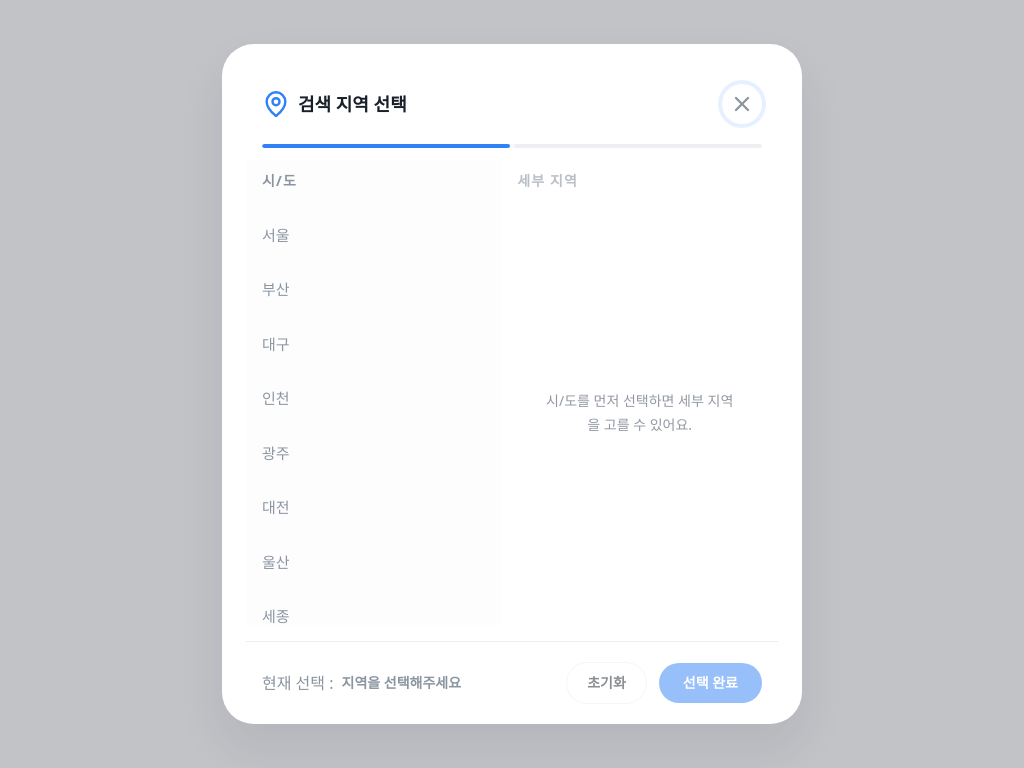
RegionSelectDialog › 시도를 바꾸면 세부 지역 선택이 다시 전체로 돌아간다
This screenshot has width=1024, height=768.
Click the button "서울" at (370, 235), box [246,210,493,260]
(page scrolled)
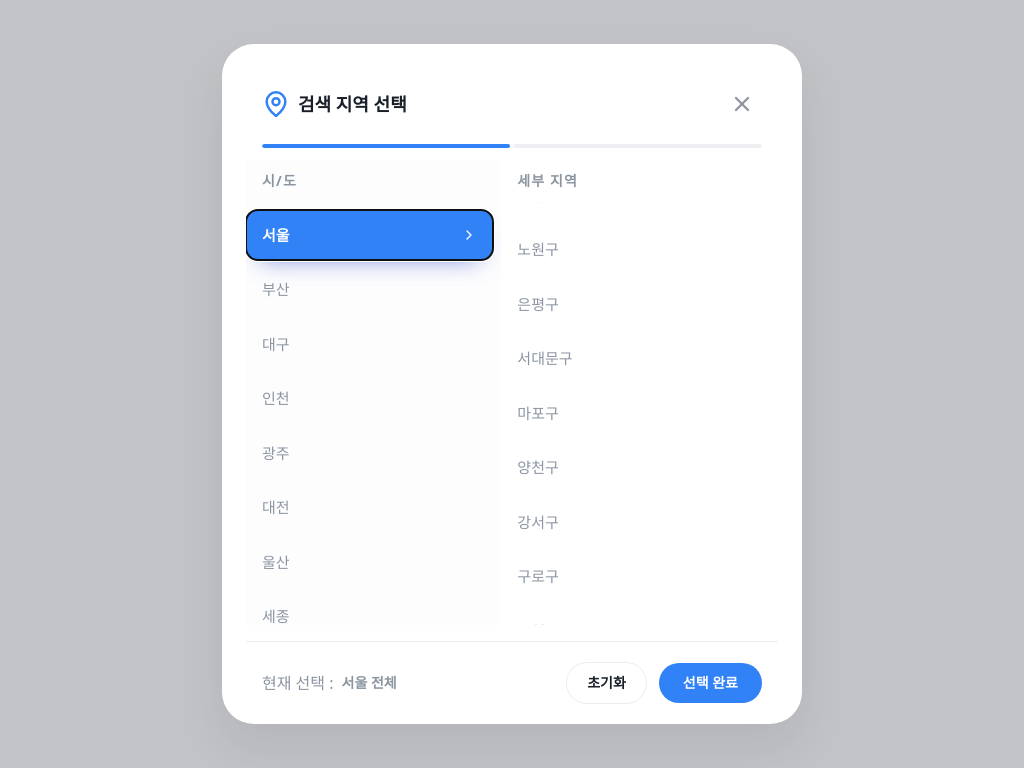
Click the button "마포구" at (538, 413), box [501,388,770,438]
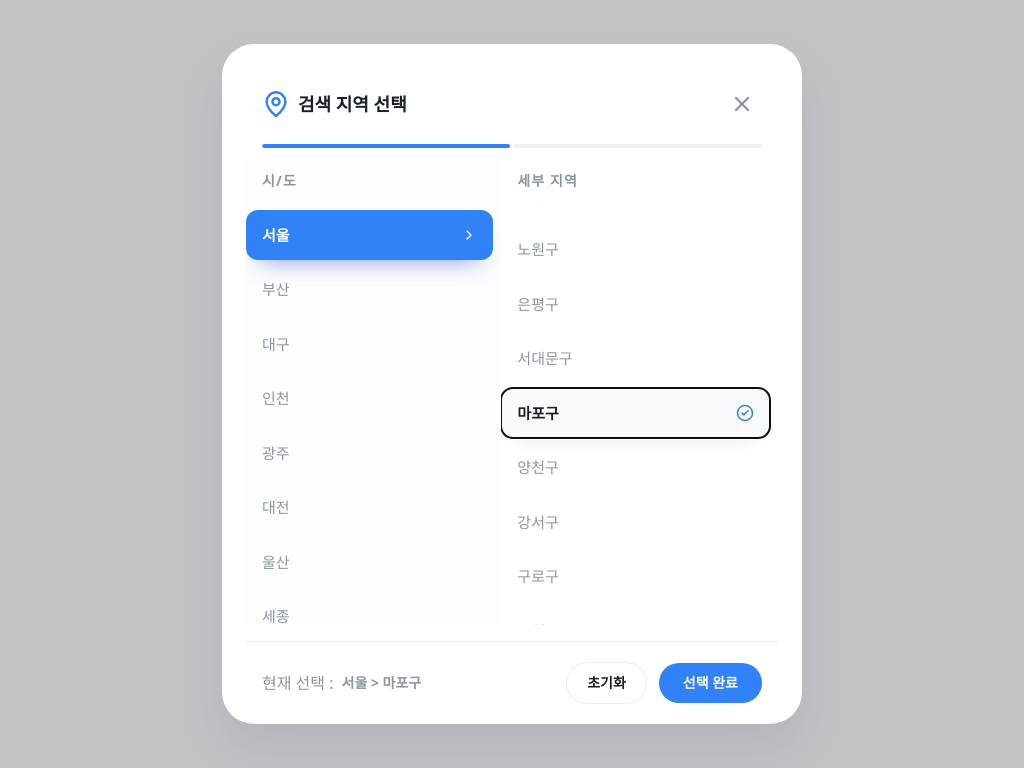
Check: the button "마포구" is pressed, box [501,388,770,438]
Click the button "부산" at (370, 290), box [246,264,493,315]
(page scrolled)
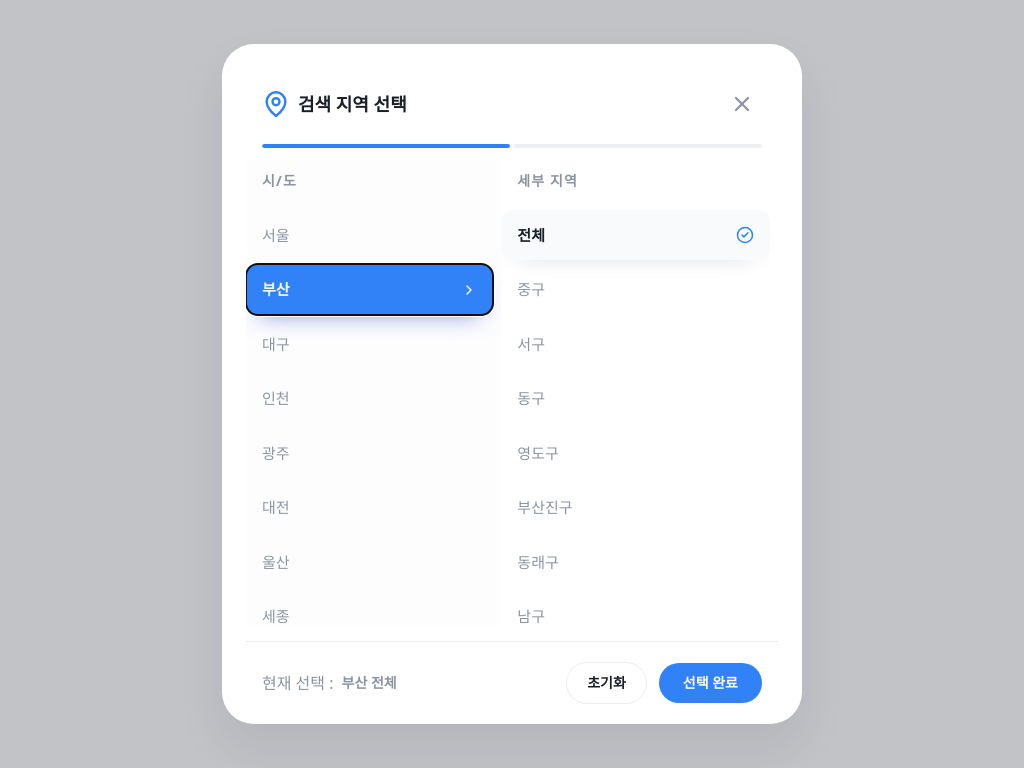
Check: the button "마포구" is gone
